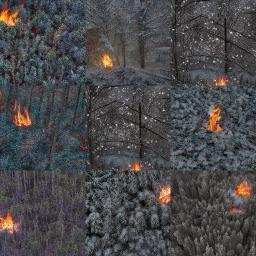Small fire: (12, 103, 41, 128), (203, 105, 228, 134), (97, 48, 122, 73), (0, 210, 22, 237), (0, 7, 25, 27), (205, 70, 227, 90), (235, 175, 251, 196), (158, 180, 174, 201), (130, 157, 143, 174)
